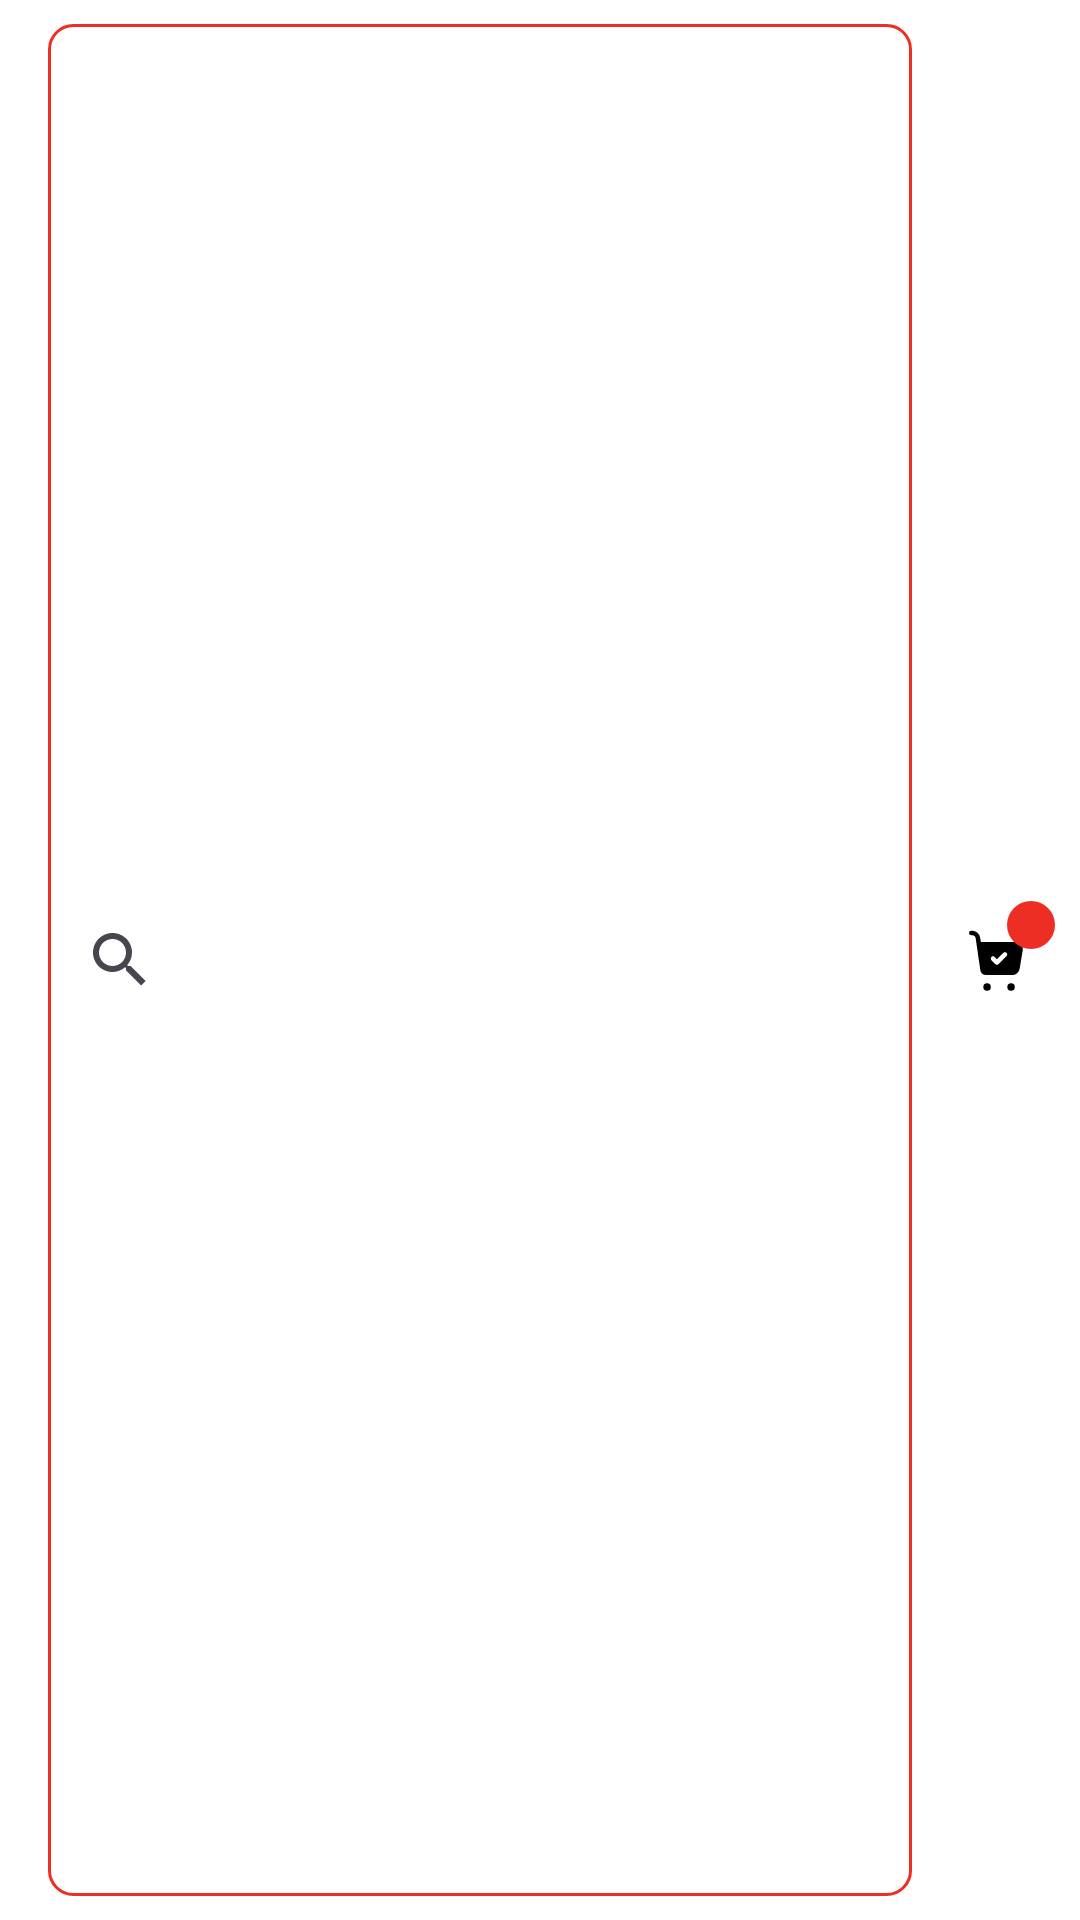

Icon bounding boxes for this 1080px x 1920px phone screenshot, format (x1, y1, x2, y2):
cart: (969, 924, 1032, 991)
